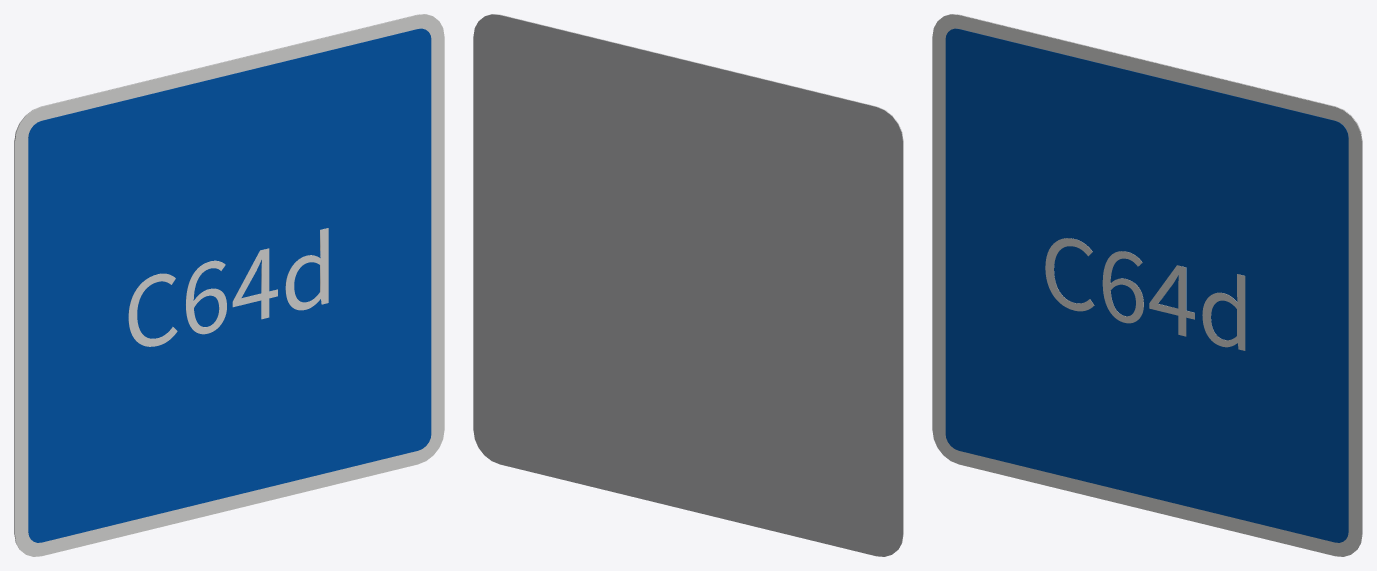
The picture shows the model from 3 angles, left to right: view 1: azimuth 30°, elevation 25°; view 2: azimuth 150°, elevation 25°; view 3: azimuth 330°, elevation 25°; orthographic projection.
Parts seen in each view (by area): view 1: C64d_fond01, C64d_cadre00, C64d_txt02, C64d_dos; view 2: C64d_dos, C64d_cadre00; view 3: C64d_fond01, C64d_cadre00, C64d_txt02, C64d_dos.
Boxes of the visible parts, x1,y1,x2,y2 form: C64d_fond01: (28,28,431,542); C64d_cadre00: (15,14,444,556); C64d_txt02: (128,228,328,346); C64d_dos: (14,14,432,549); C64d_dos: (473,14,903,556); C64d_cadre00: (493,14,903,547); C64d_fond01: (945,28,1348,542); C64d_cadre00: (932,14,1361,556); C64d_txt02: (1045,238,1245,350); C64d_dos: (944,14,1362,549).
Bounding box in the file's own units: 0.65 × 0.65 × 0.0025.
